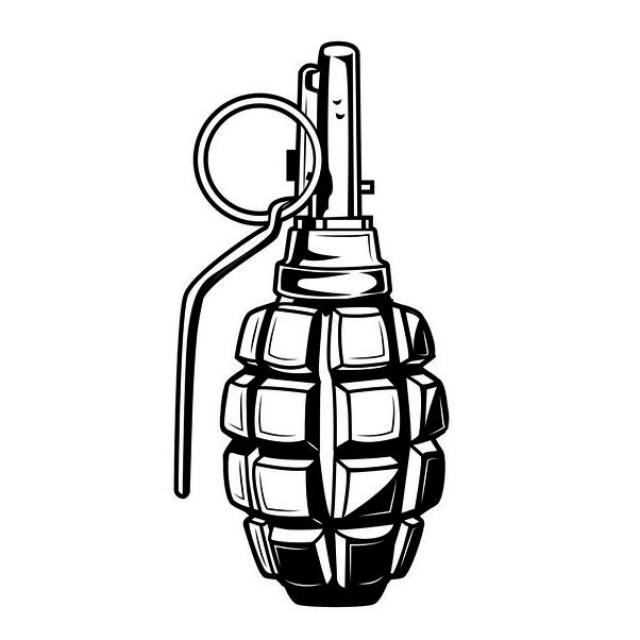grenade: (175, 42, 450, 610)
